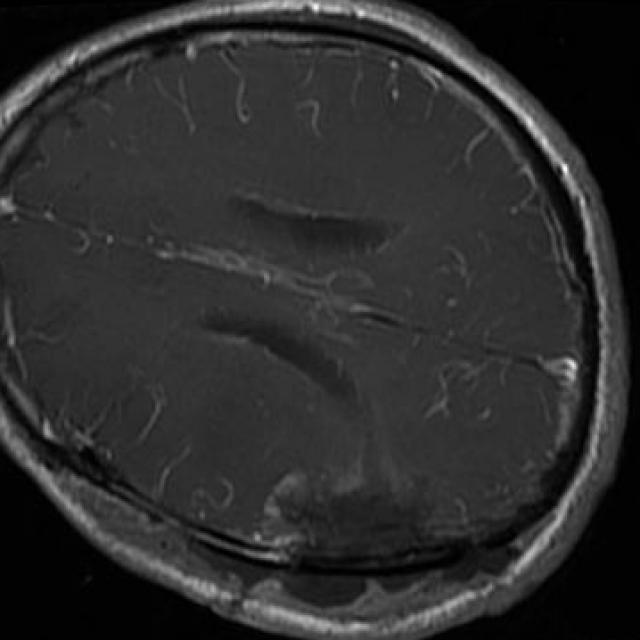glioma: (258, 471, 472, 606)
